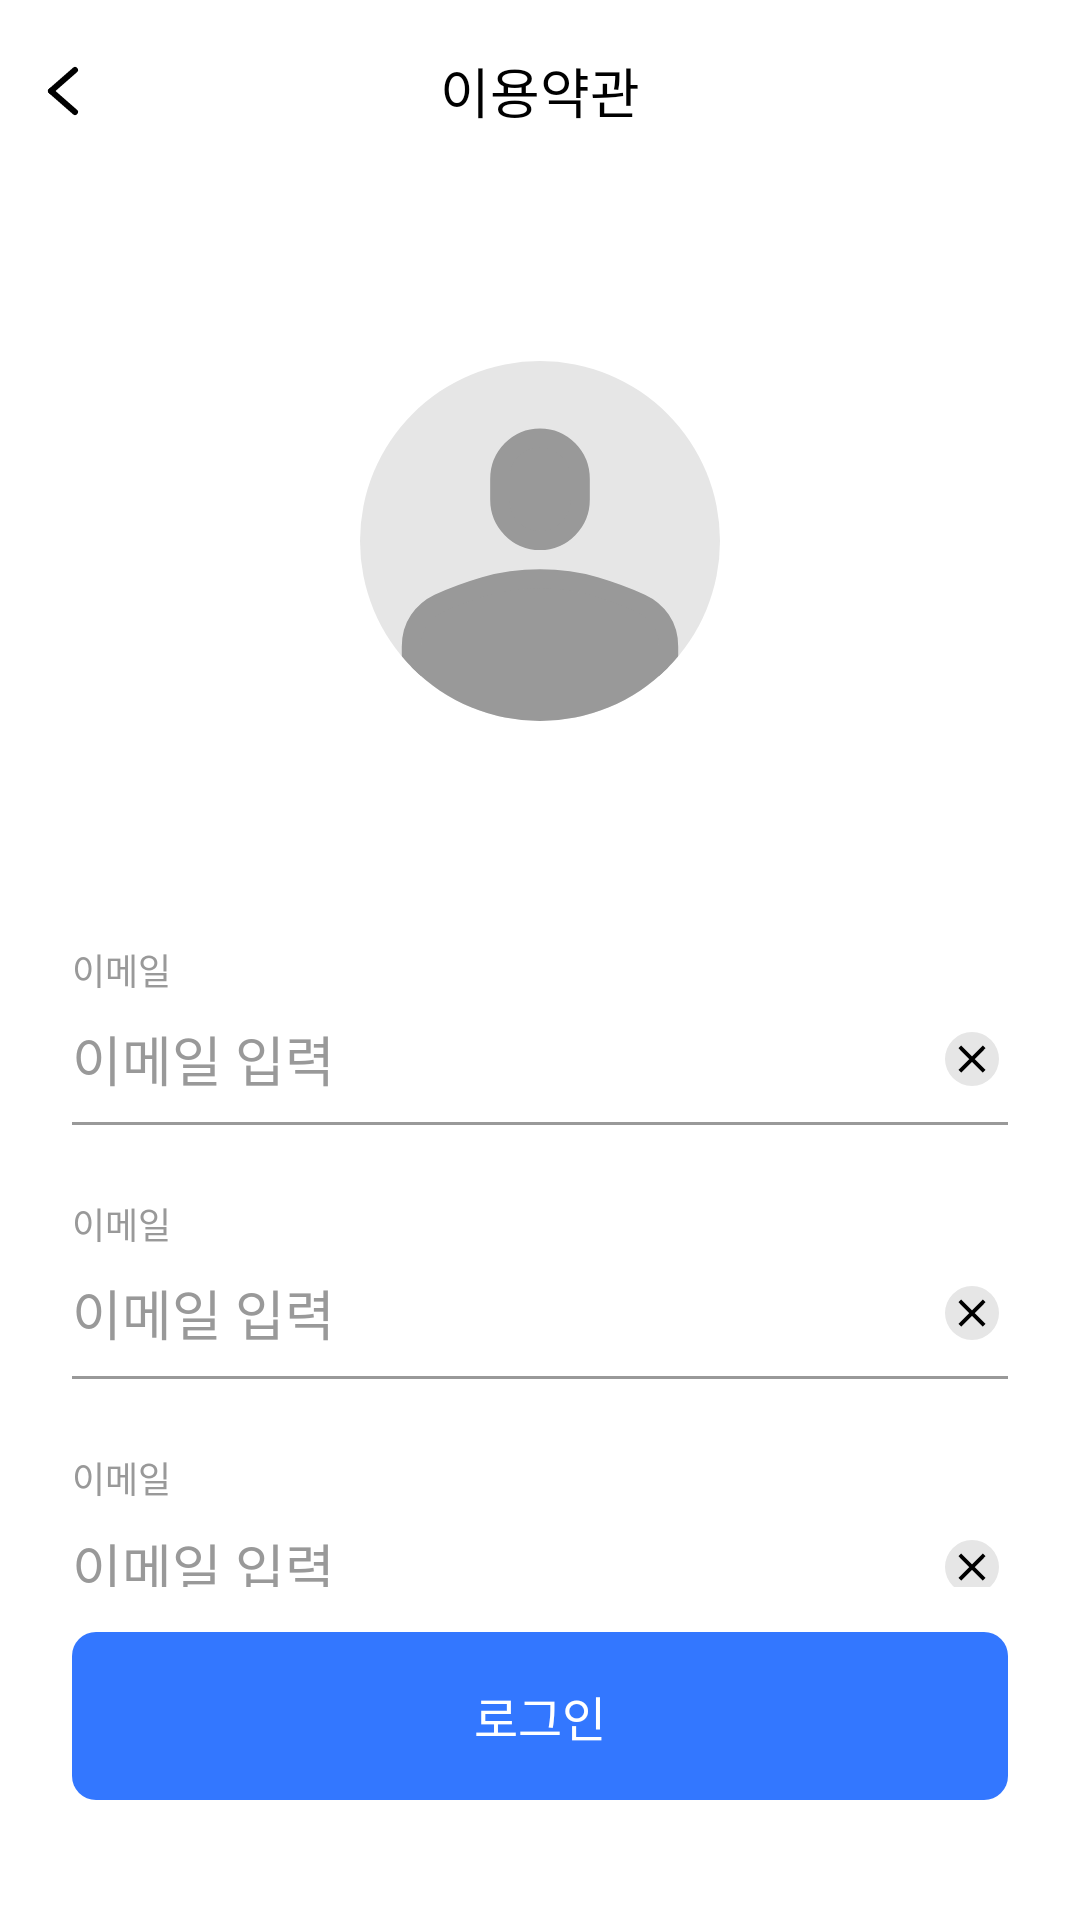

Locate icon controls on the screen. Image size 1080 x 1920, boxes as (x1, y1, x2, y2).
profile: (360, 361, 720, 721)
